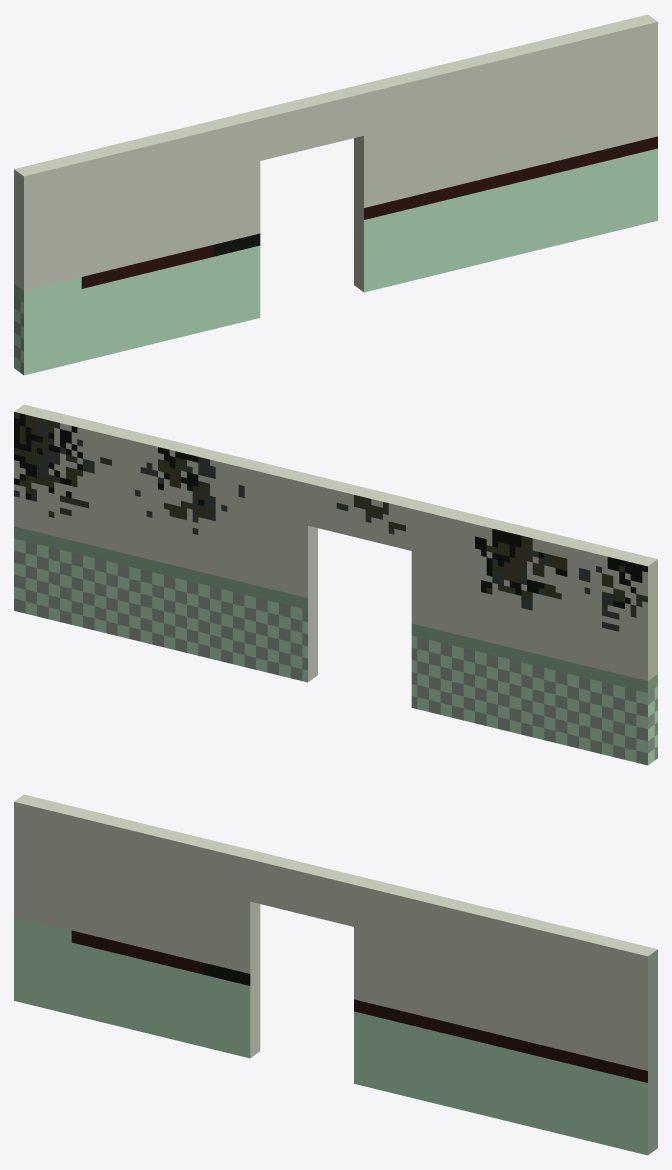
Rendered from ściana środkowa.fbx.
3 views of the same model, one above another, from view 1: azimuth 30°, elevation 25°; view 2: azimuth 150°, elevation 25°; view 3: azimuth 330°, elevation 25° (orthographic).
Parts seen in each view (by area): view 1: Box001; view 2: Box001; view 3: Box001.
Part boxes in pixels (<box>): Box001: <box>14,14,657,375</box>; Box001: <box>14,404,657,765</box>; Box001: <box>14,794,657,1155</box>.
Bounding box in the file's own units: 110 × 33 × 3.
